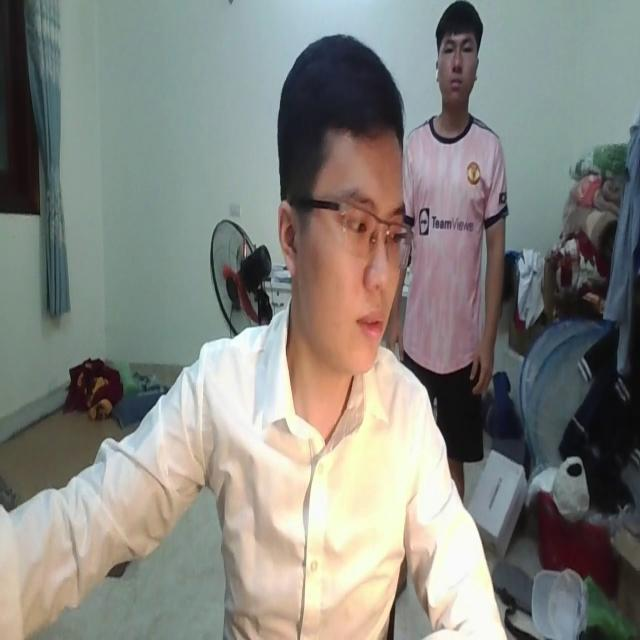extra_person: (399, 0, 503, 459)
student: (1, 26, 504, 640)
